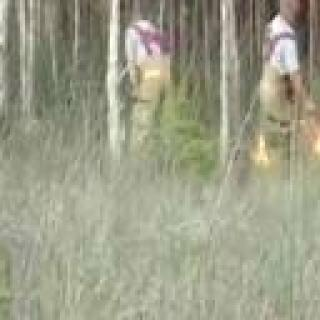fire: (255, 136, 273, 169), (316, 106, 320, 168)
